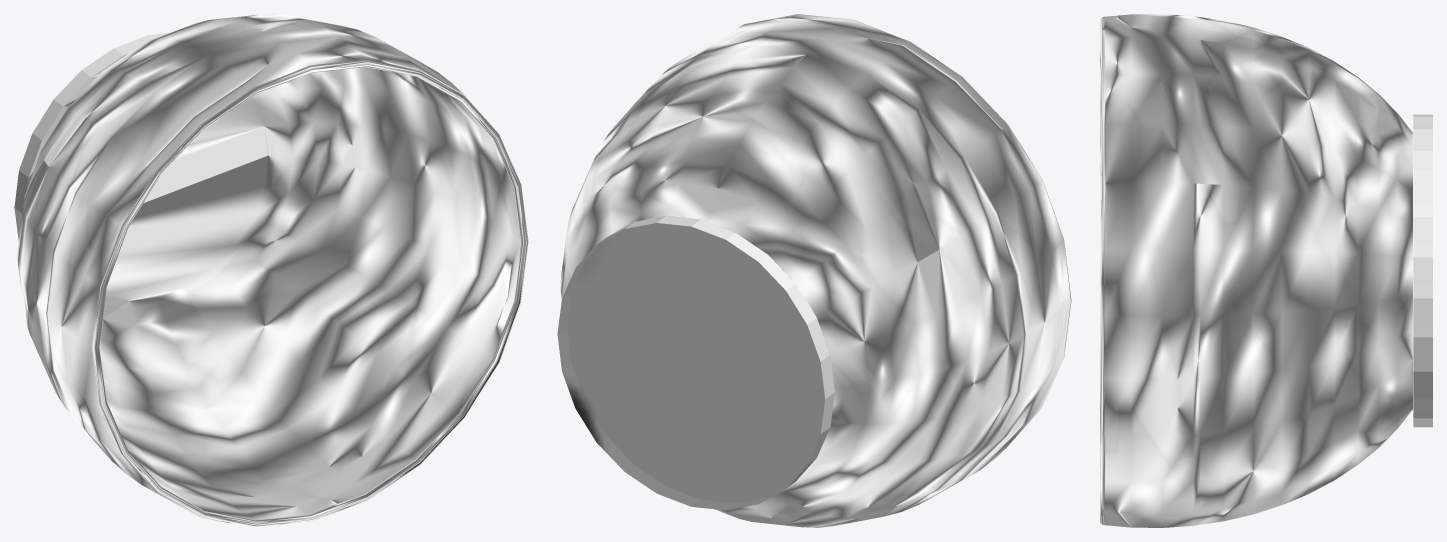
File: model_align.obj
3 views of the same model, side by side, from view 1: azimuth 30°, elevation 25°; view 2: azimuth 150°, elevation 25°; view 3: azimuth 270°, elevation 25° (orthographic).
Size of the model in its own units: 0.1437 by 0.1437 by 0.0927.
